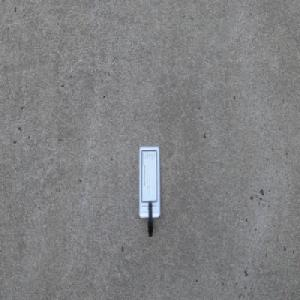LuggageTag: (138, 145, 160, 238)
